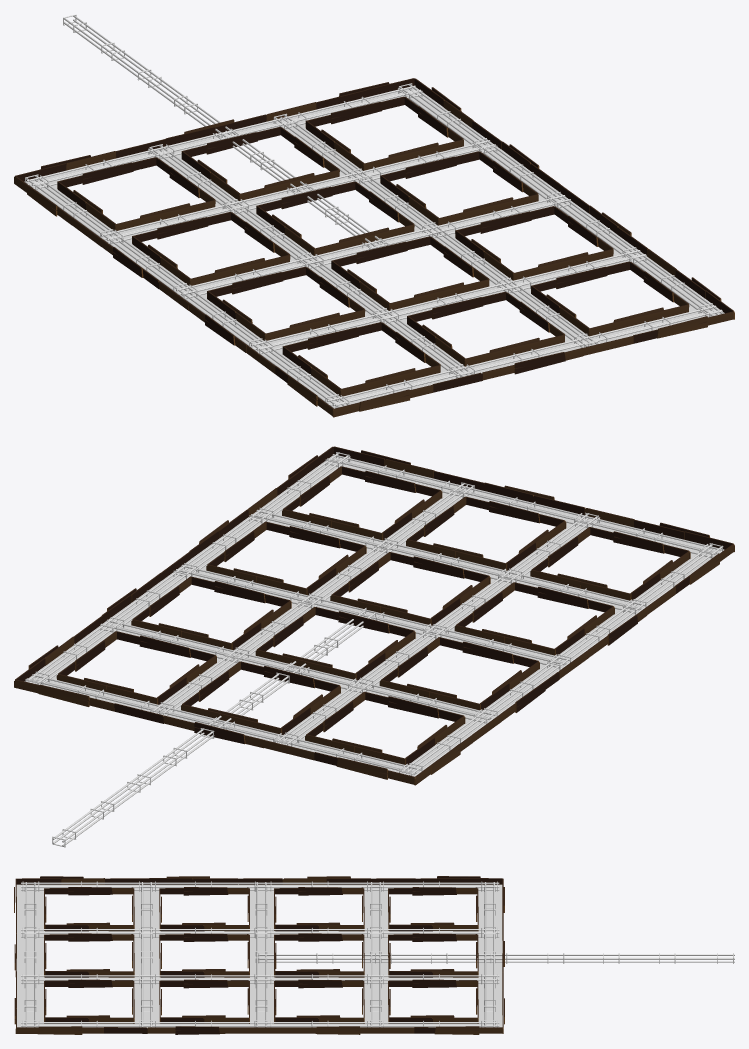
The model's file is Form.fbx.
3 renders of one model, top to bottom at view 1: azimuth 30°, elevation 25°; view 2: azimuth 150°, elevation 25°; view 3: azimuth 270°, elevation 25°, orthographic. The views are drawn at different scales.
Parts seen in each view (by area): view 1: Wood, Concrete, Wires V, Wires H, Wires; view 2: Wood, Concrete, Wires V, Wires H, Wires; view 3: Wood, Concrete, Wires V, Wires H, Wires.
Boxes of the visible parts, x1=… form: Wood: x1=14, y1=78, x2=734, y2=417; Concrete: x1=24, y1=87, x2=724, y2=407; Wires V: x1=25, y1=83, x2=723, y2=408; Wires H: x1=26, y1=85, x2=721, y2=408; Wires: x1=63, y1=14, x2=387, y2=248; Wood: x1=14, y1=446, x2=734, y2=785; Concrete: x1=24, y1=456, x2=724, y2=776; Wires V: x1=25, y1=452, x2=723, y2=776; Wires H: x1=26, y1=454, x2=721, y2=774; Wires: x1=52, y1=609, x2=376, y2=847; Wood: x1=14, y1=876, x2=504, y2=1034; Concrete: x1=16, y1=884, x2=502, y2=1027; Wires V: x1=21, y1=881, x2=499, y2=1027; Wires H: x1=24, y1=882, x2=495, y2=1027; Wires: x1=257, y1=953, x2=734, y2=963.
Bounding box in the file's own units: 1597 × 40.31 × 3227.
